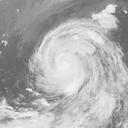cyclone: (36, 19, 115, 99)
